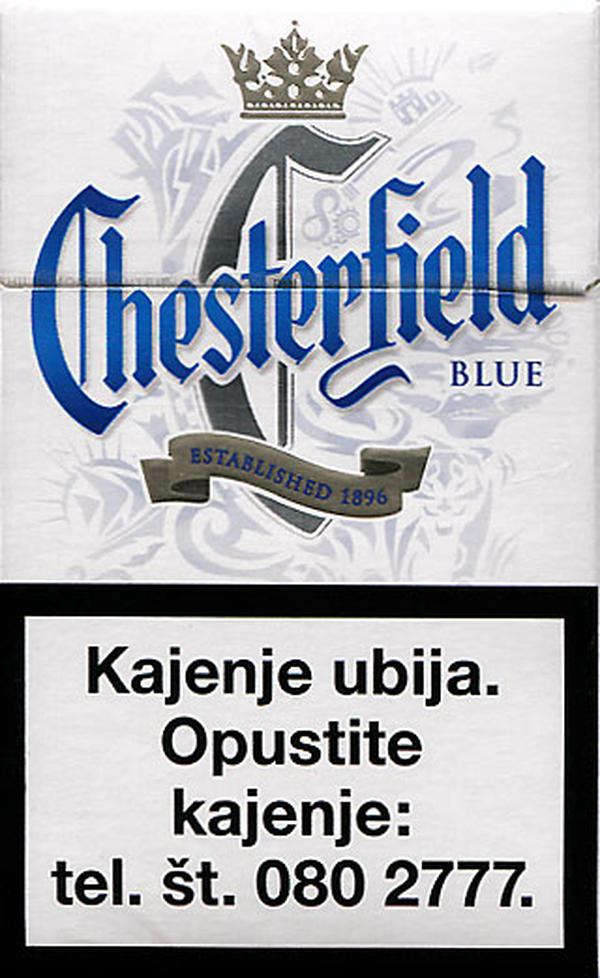chesterfield_blue: (3, 2, 598, 975)
